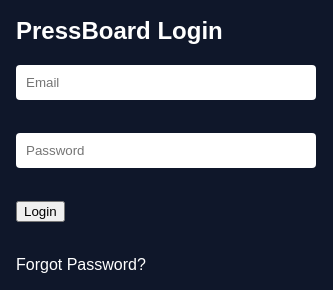
Test: Login page › opens forgot password screen
Click the text "Forgot Password?".
click(81, 264)  # box [16,256,146,273]
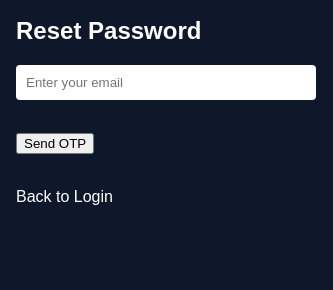
Result: the heading "Reset Password" is shown at [16,17,201,44]
Result: the field with placeholder "Enter your email" is shown at [16,65,316,100]
Result: the button "Send OTP" is shown at [16,133,94,154]
